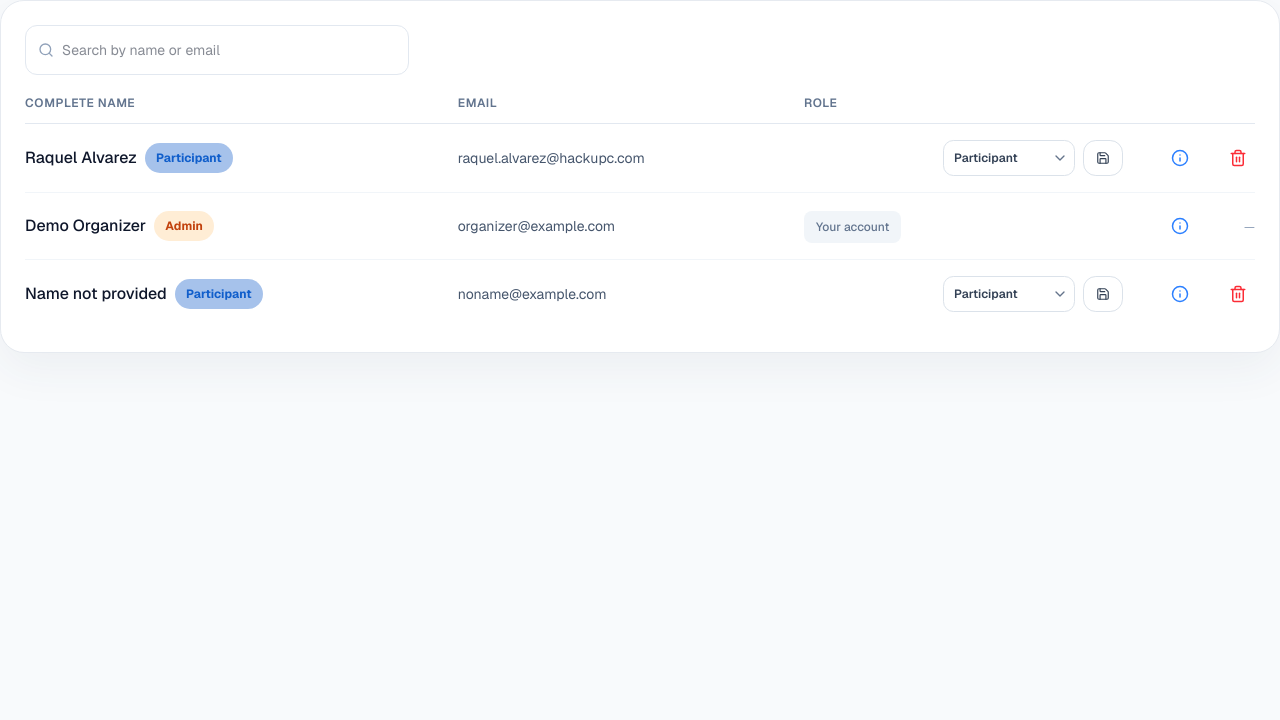
UsersTable › opens a details dialog with the full profile when Info is clicked
The image size is (1280, 720).
What coordinates should you click on to do the following:
click the button named "View details for Raquel Alvarez"
I would click on:
 (1180, 158)
Its box is left=1163, top=141, right=1197, bottom=175.
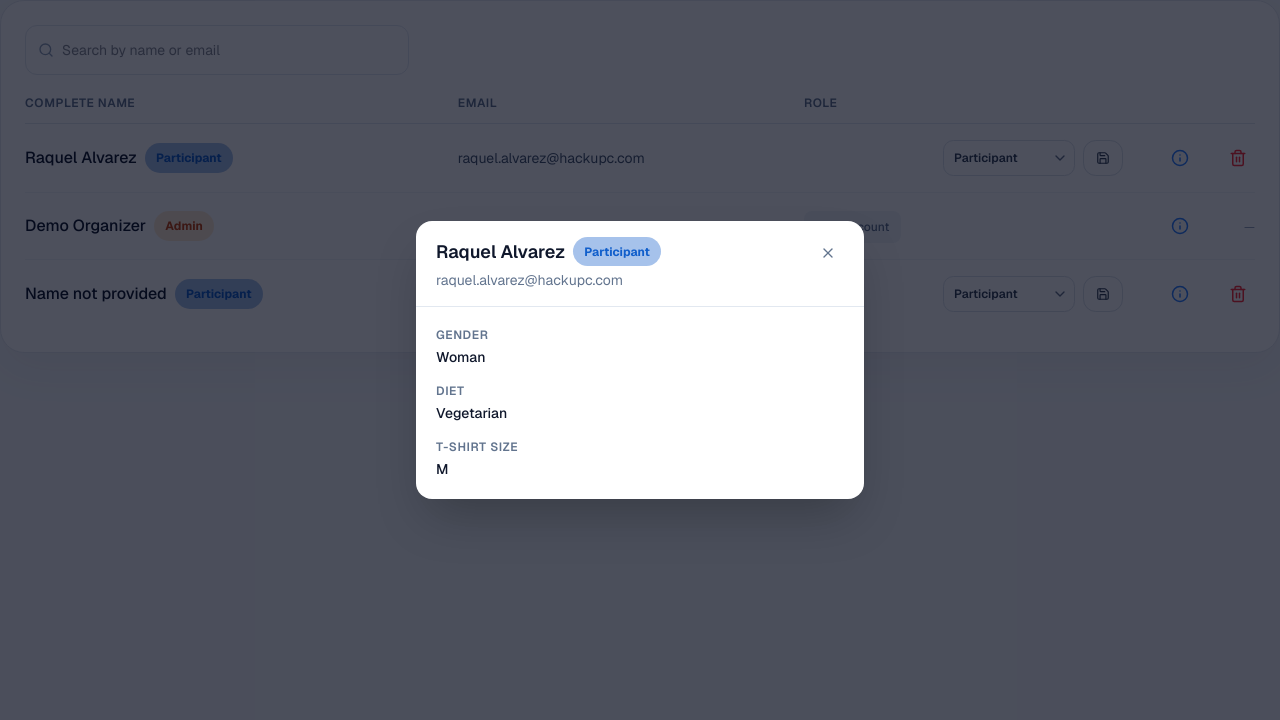
Expected: the text "raquel.alvarez@hackupc.com" is shown, left=436, top=271, right=623, bottom=289
Expected: the text "Participant" is shown, left=573, top=237, right=661, bottom=266
Expected: the text "Woman" is shown, left=436, top=348, right=485, bottom=366
